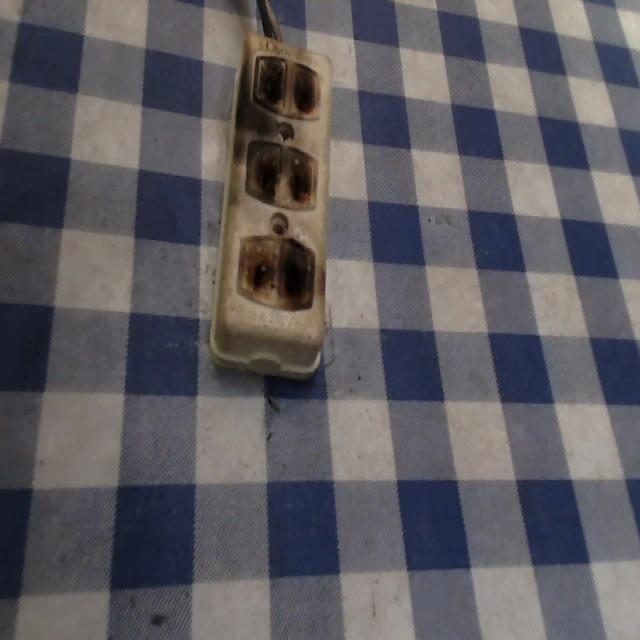-: (233, 230, 319, 306), (242, 136, 319, 211), (249, 52, 323, 123)
